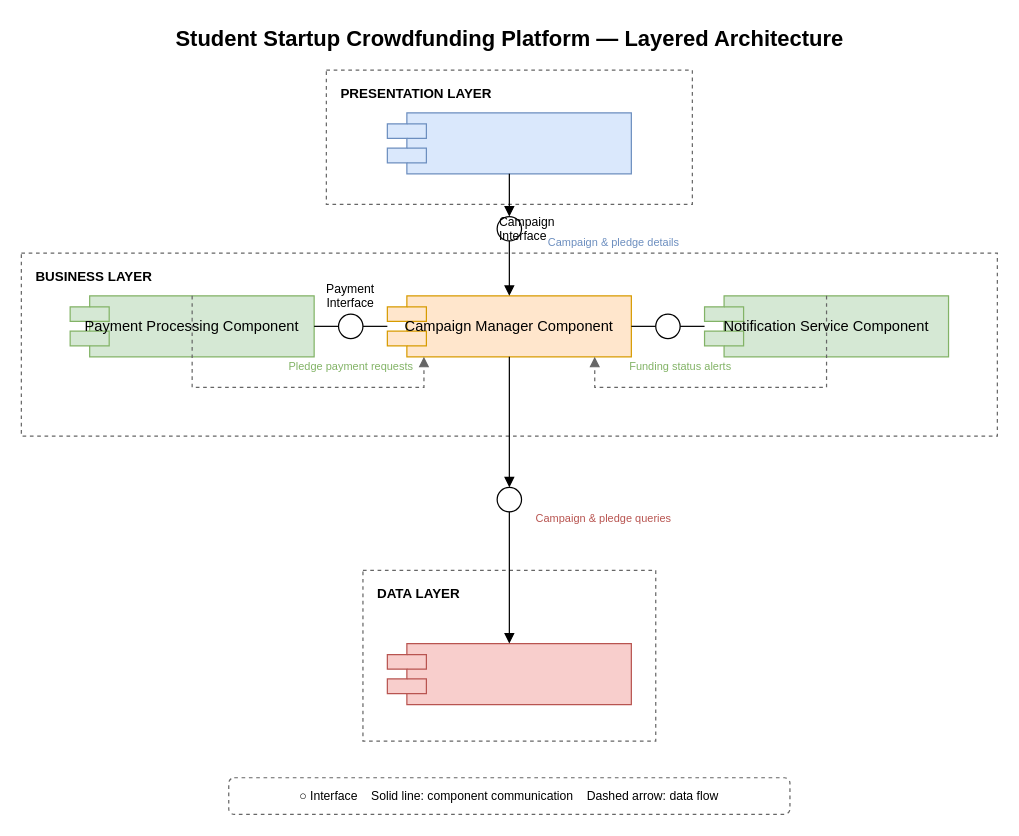
Some shapes in this 1019 by 836 pixel diagram are drawn without their labels. The shapes that lost their labels are listed below. From the top down, each one's centre as x and y in pixels, then its label:
[508,143]: User Interface Component
[667,326]: Notification Interface
[509,499]: Database Interface
[508,673]: Campaign Database Component
